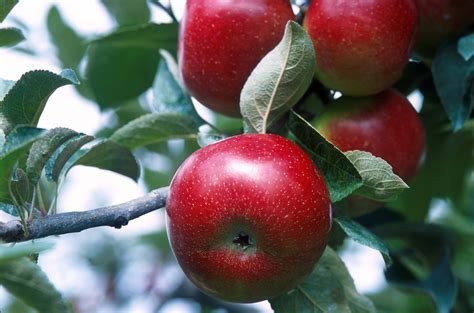apple: (161, 131, 337, 304)
